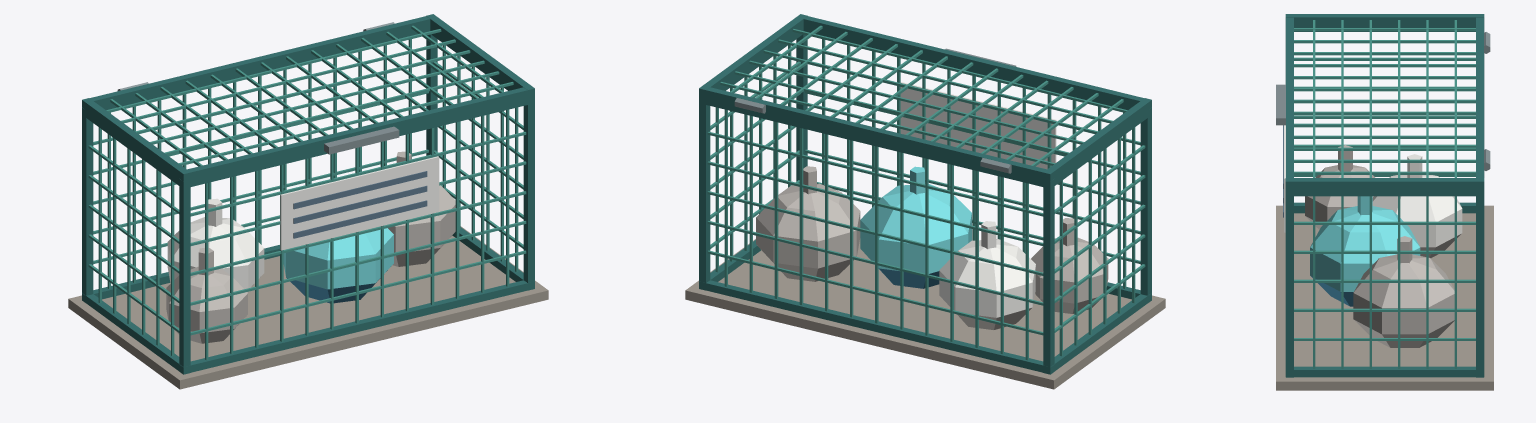
Rendered from tb_garbage_station_01.fbx.
3 renders of one model, left to right at view 1: azimuth 30°, elevation 25°; view 2: azimuth 150°, elevation 25°; view 3: azimuth 270°, elevation 25°, orthographic. The views are drawn at different scales.
Parts seen in each view (by area): view 1: tb_garbage_station_01, tb_garbage_station_01_lid; view 2: tb_garbage_station_01, tb_garbage_station_01_lid; view 3: tb_garbage_station_01, tb_garbage_station_01_lid.
Part boxes in pixels (bbox=[...]): tb_garbage_station_01: bbox=[68, 22, 548, 389]; tb_garbage_station_01_lid: bbox=[82, 14, 534, 181]; tb_garbage_station_01: bbox=[685, 26, 1165, 389]; tb_garbage_station_01_lid: bbox=[699, 14, 1151, 181]; tb_garbage_station_01: bbox=[1276, 24, 1493, 390]; tb_garbage_station_01_lid: bbox=[1276, 14, 1484, 188].
Size of what is drawn, in the model's own units: 2.56 by 1.14 by 1.38.
2 materials, 1 textured.
